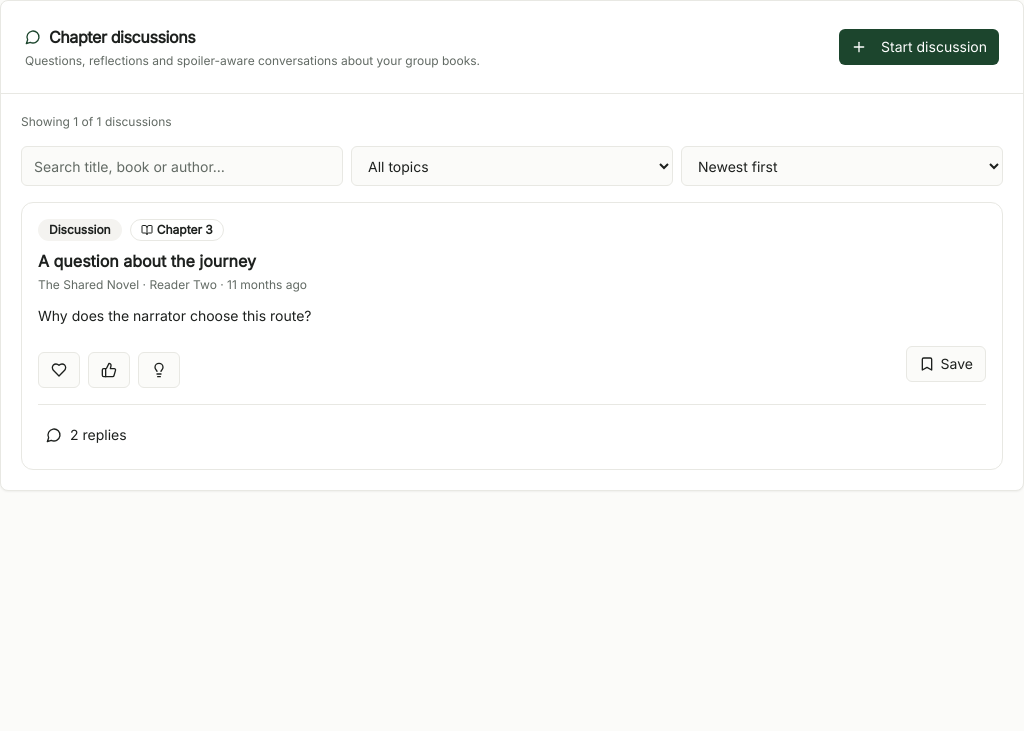
it: GroupReadingDiscussions › renders a locked reply without exposing its body
What coordinates should you click on to do the following:
click the button "2 replies"
I would click on:
 (86, 435)
Its box is 38,417 -> 135,453.
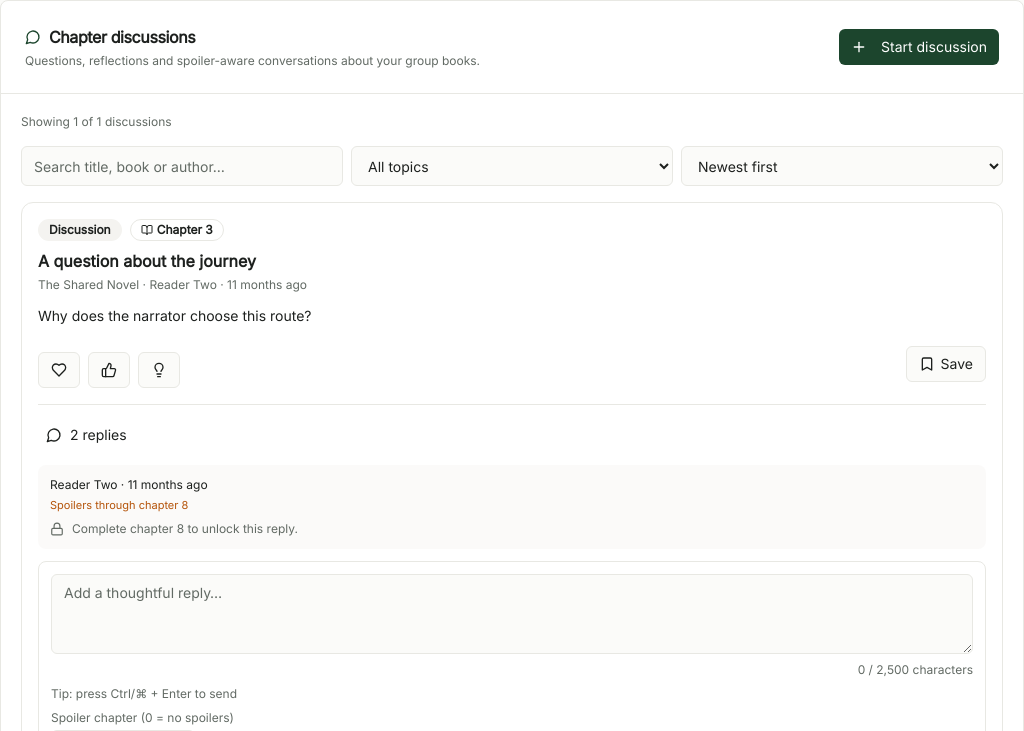
Check: the text "Complete chapter 8 to unlock this reply." is shown, box 50,521 -> 298,536
